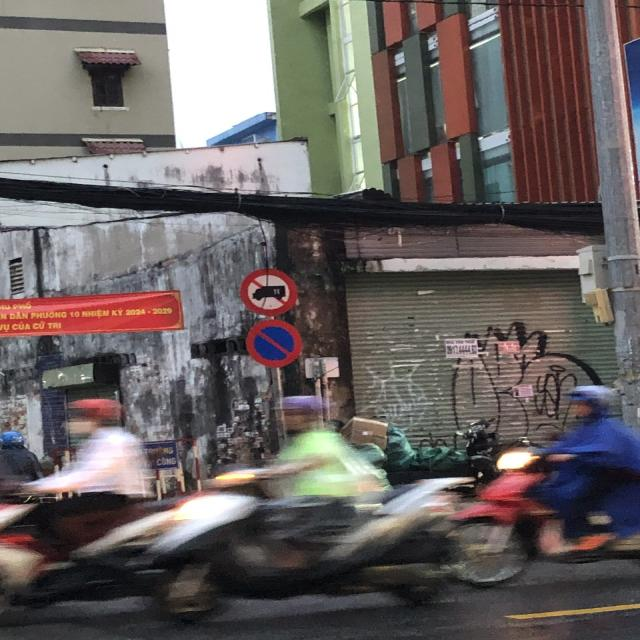Bien bao cam do xe: (240, 314, 307, 372)
Bien bao cam xe oto tai: (235, 263, 301, 318)
